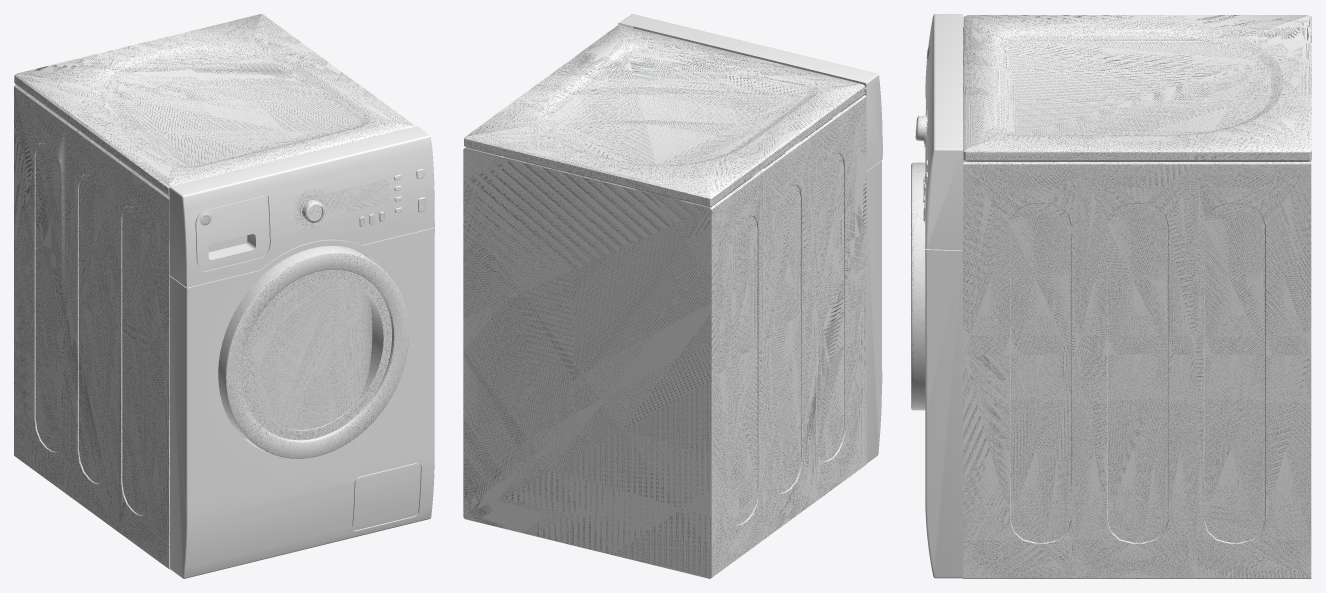
File: WashingMachine.fbx
The picture shows the model from 3 angles, left to right: view 1: azimuth 30°, elevation 25°; view 2: azimuth 150°, elevation 25°; view 3: azimuth 270°, elevation 25°; orthographic projection. The views are drawn at different scales.
Parts seen in each view (by area): view 1: SketchUp.001, SketchUp.005, SketchUp.007, SketchUp.035, SketchUp.032, SketchUp.033, SketchUp.031, SketchUp.034, SketchUp; view 2: SketchUp.005, SketchUp.007, SketchUp.001; view 3: SketchUp.005, SketchUp.007, SketchUp.001, SketchUp.032, SketchUp.008.
Boxes of the visible parts, x1,y1,x2,y2 form: SketchUp.001: (169,126,434,578); SketchUp.005: (14,84,171,570); SketchUp.007: (14,14,415,195); SketchUp.035: (248,278,372,429); SketchUp.032: (218,246,409,458); SketchUp.033: (241,269,391,440); SketchUp.031: (293,179,388,230); SketchUp.034: (359,290,383,400); SketchUp: (254,272,394,441); SketchUp.005: (463,95,866,578); SketchUp.007: (464,25,865,205); SketchUp.001: (618,14,882,463); SketchUp.005: (963,27,1311,578); SketchUp.007: (963,15,1311,160); SketchUp.001: (925,14,962,578); SketchUp.032: (911,162,925,410); SketchUp.008: (965,160,1309,161).
Bounding box in the file's own units: 68.58 × 101 × 85.34.
